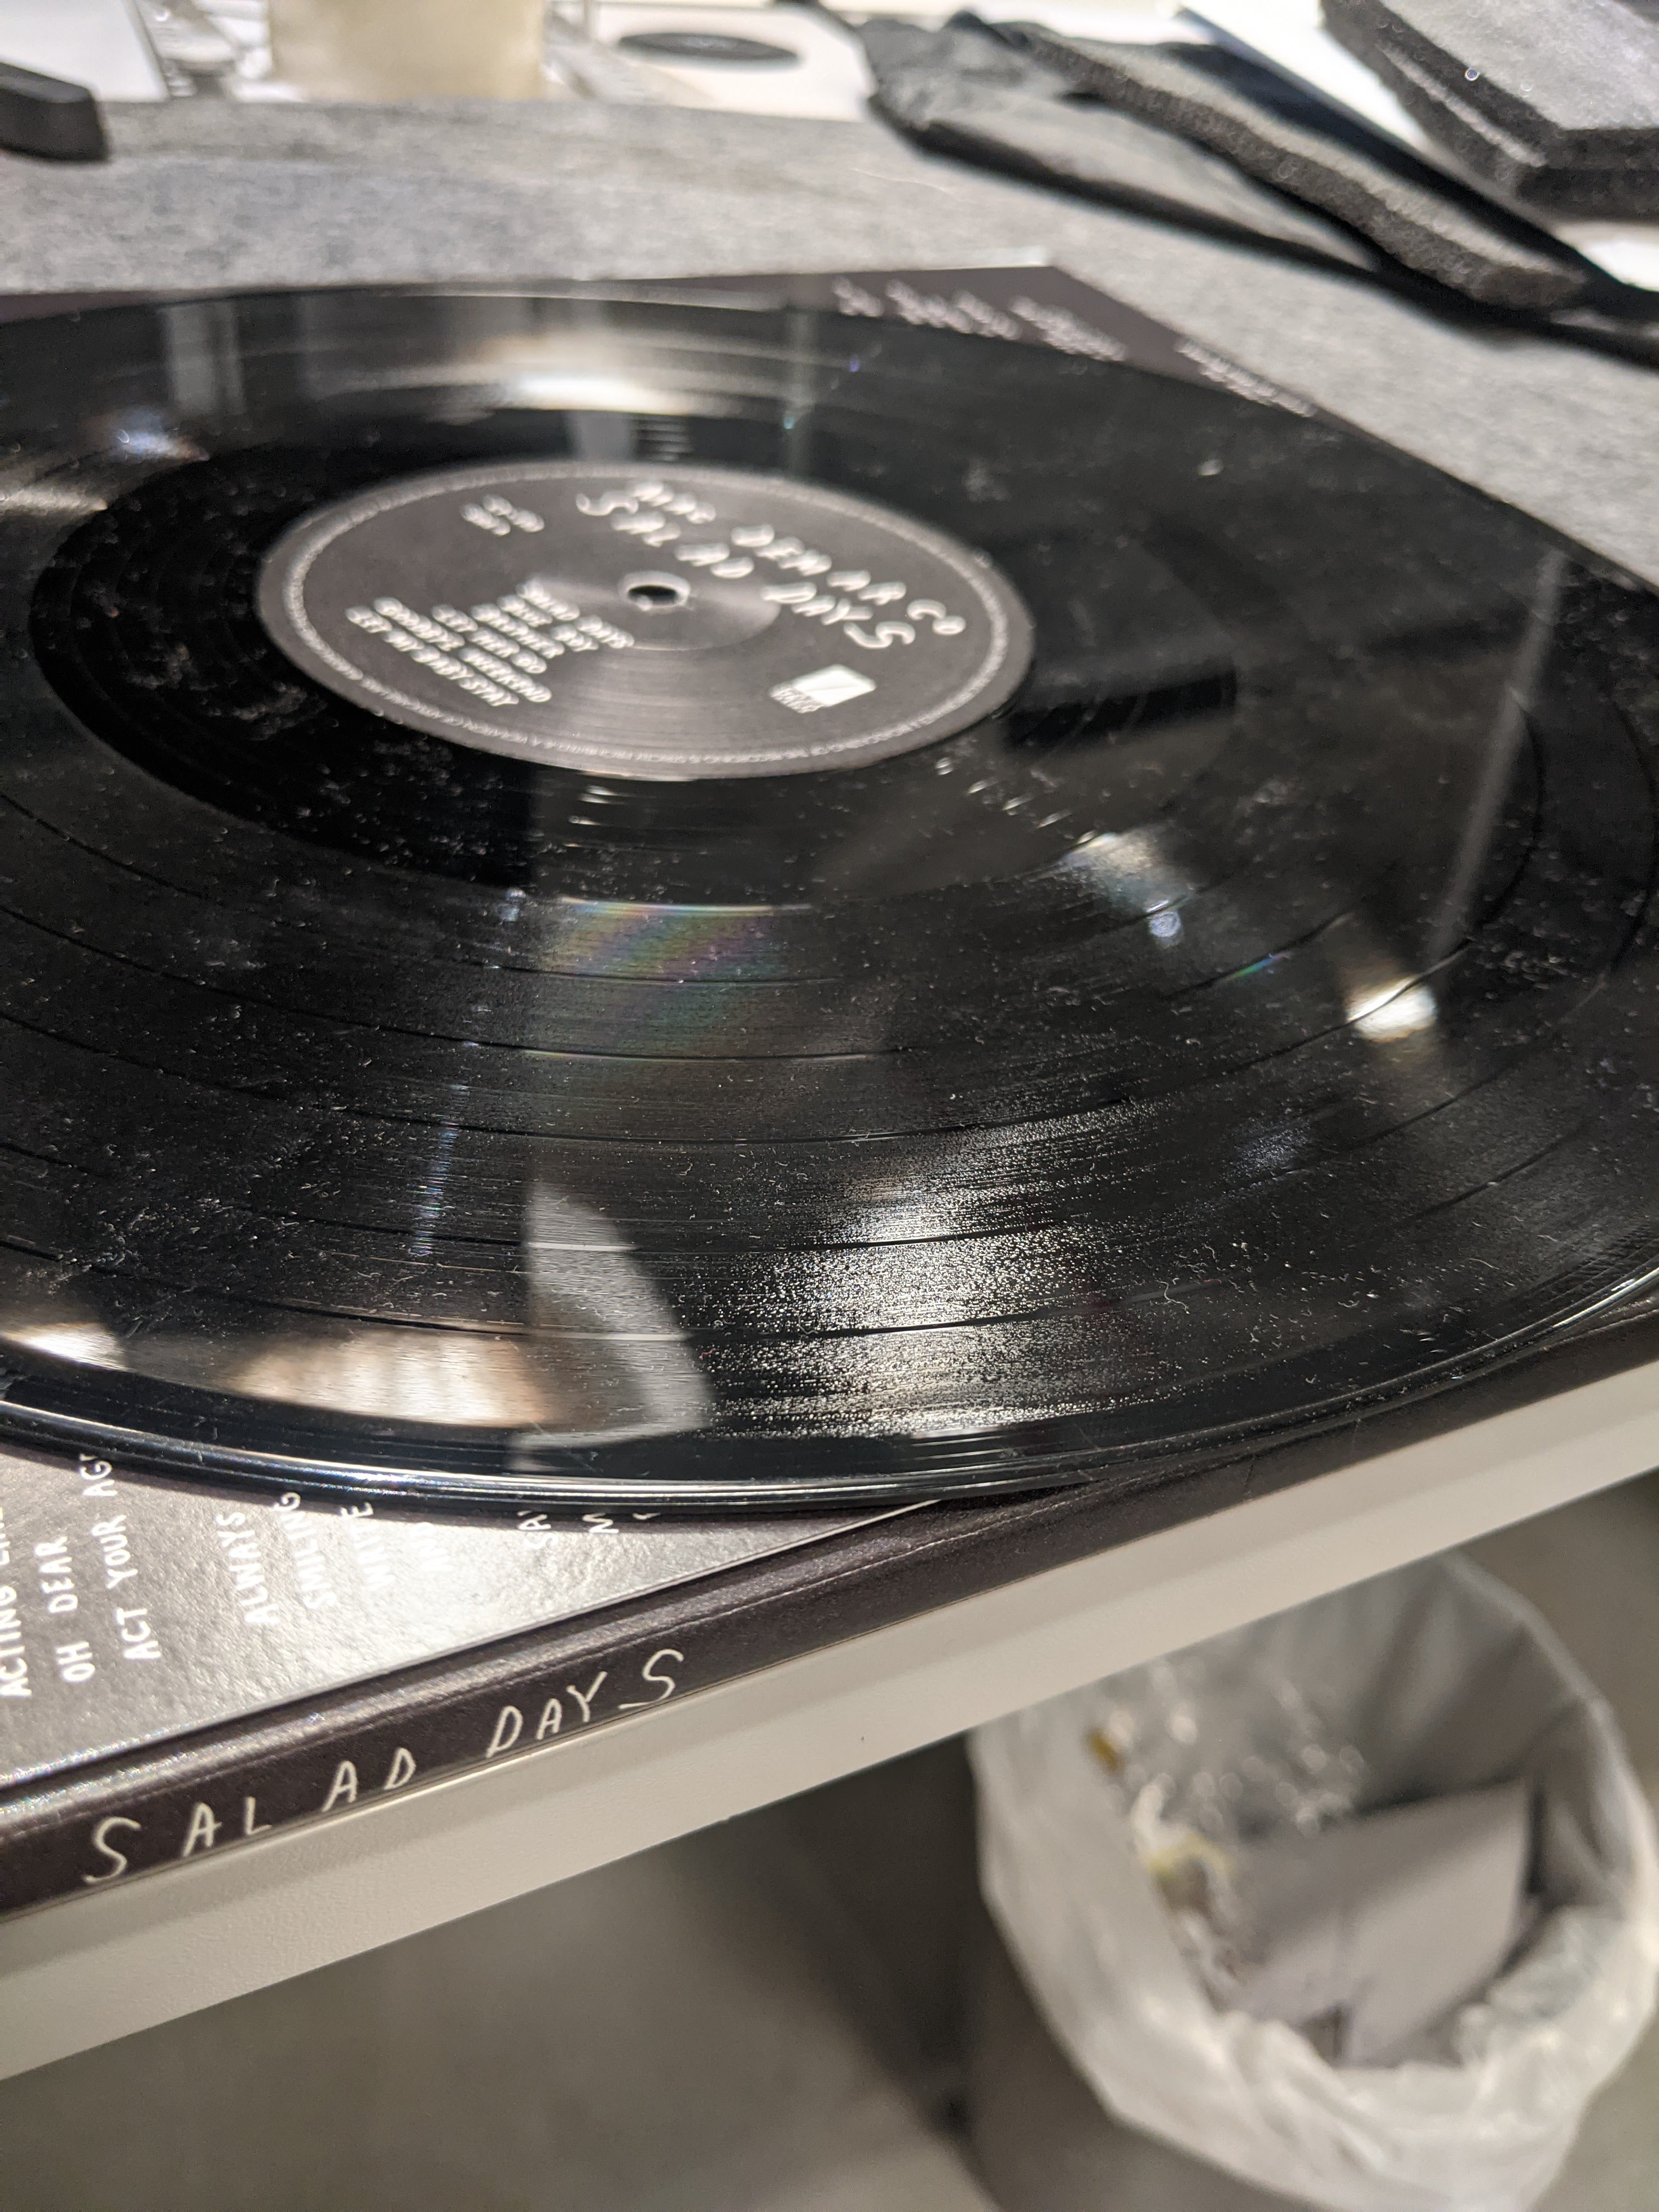song_edge: (512, 1197, 769, 1306), (694, 1092, 913, 1191), (538, 1000, 734, 1101), (816, 1301, 1054, 1381), (728, 941, 884, 1021)
